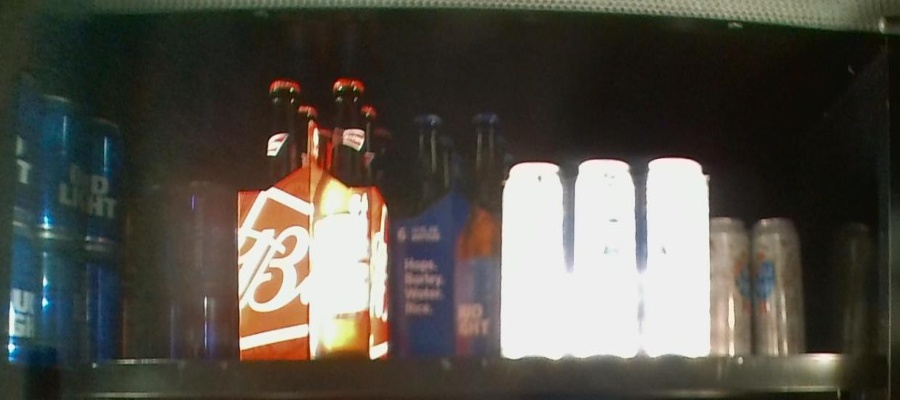bottle: (241, 71, 387, 366), (501, 161, 709, 355), (1, 96, 123, 353), (388, 107, 496, 362), (151, 178, 231, 356), (709, 214, 806, 354), (120, 175, 149, 359)
